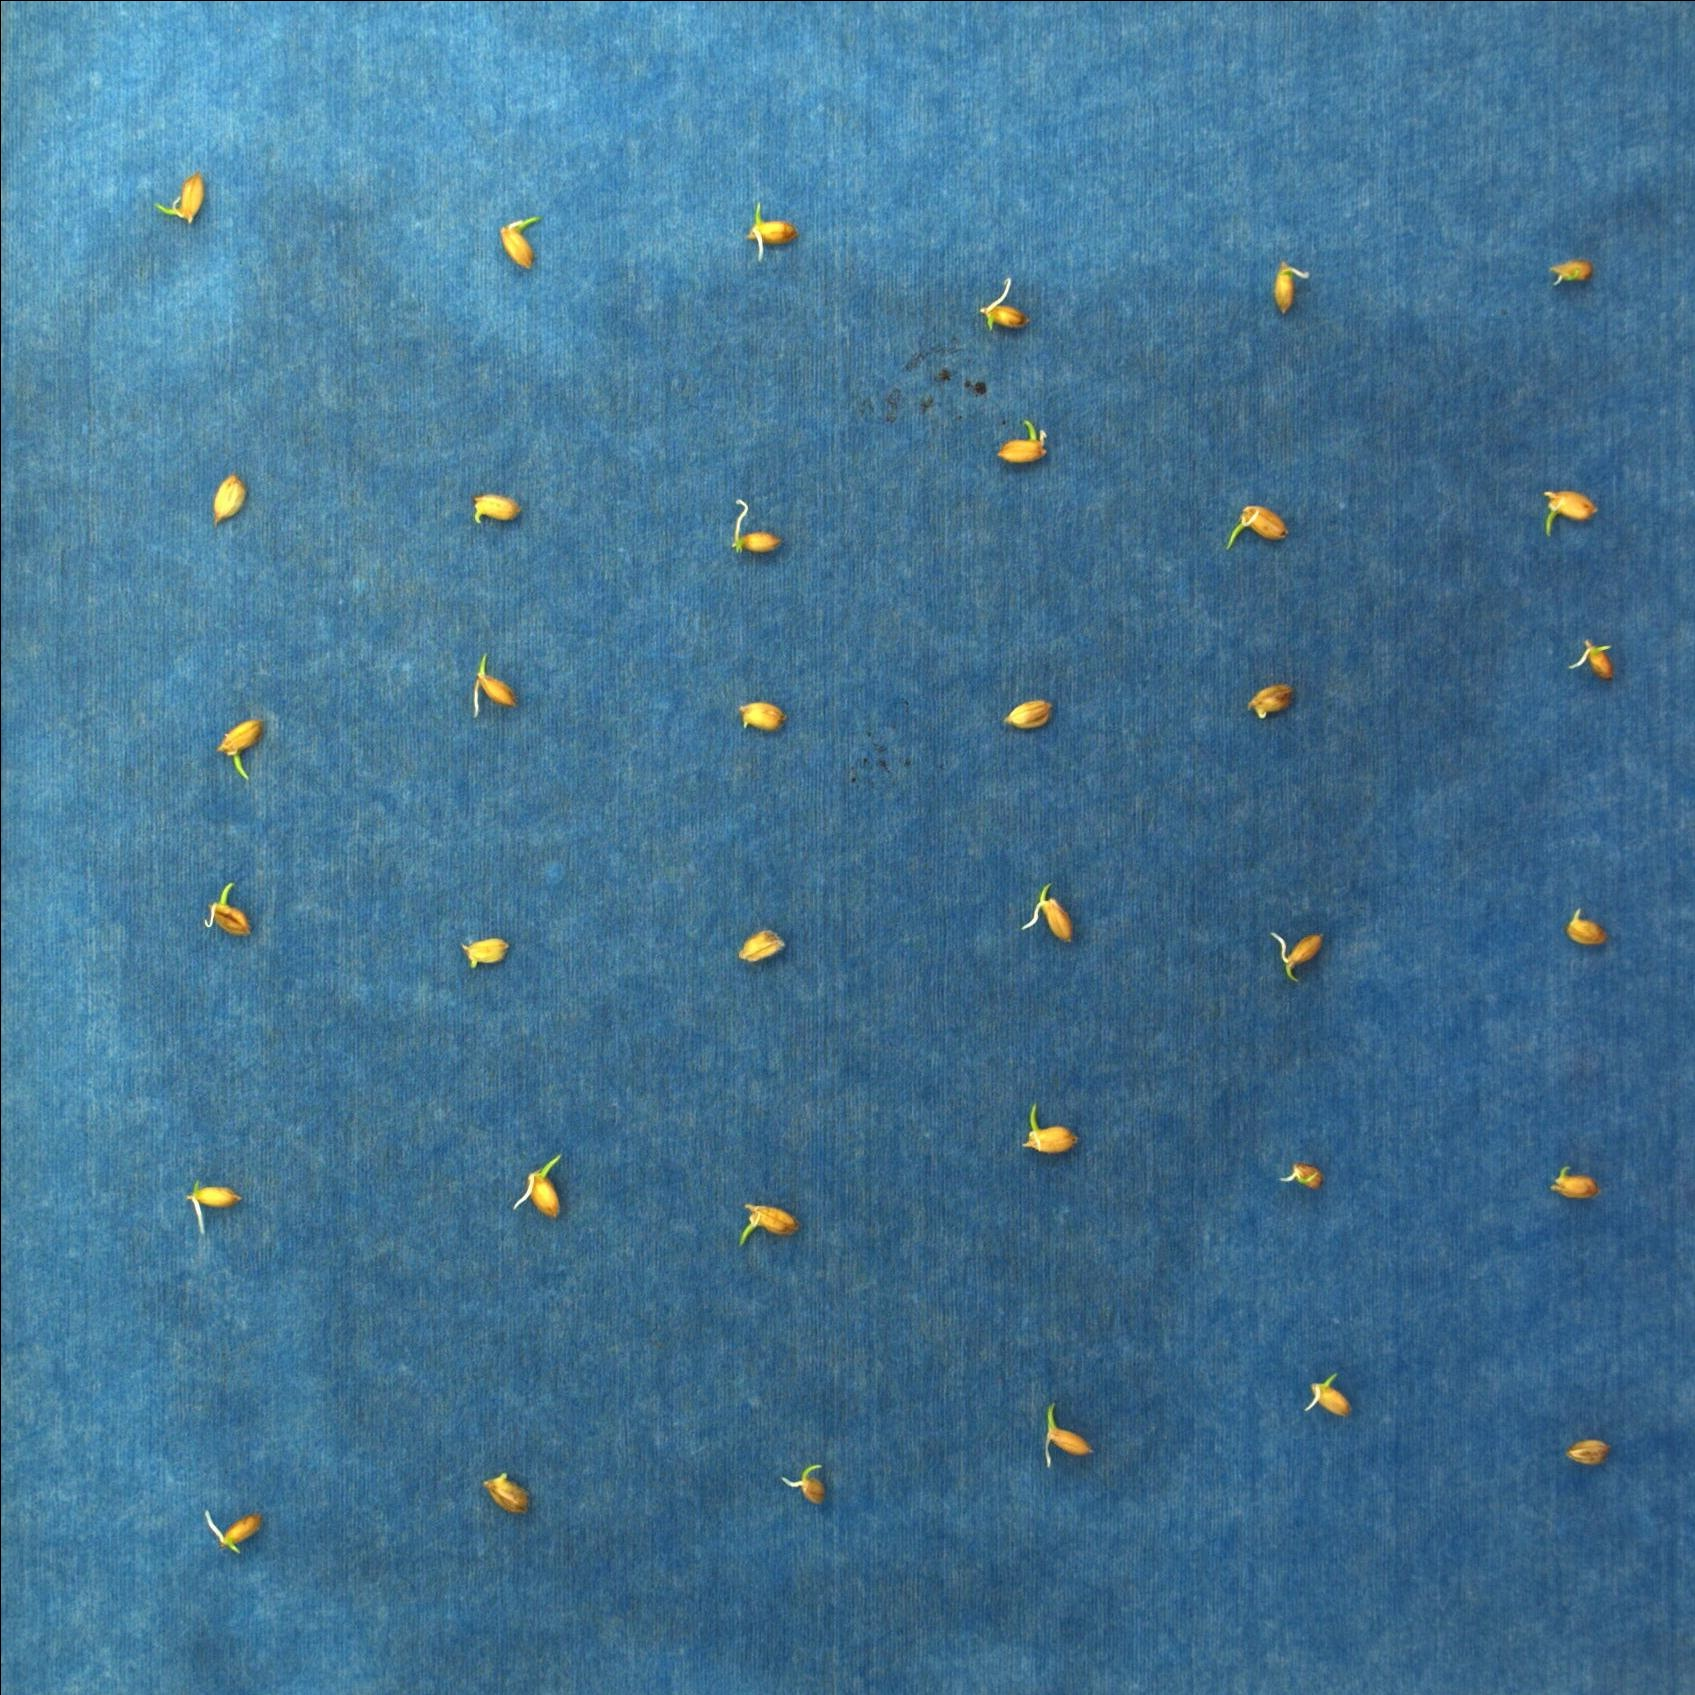not sprout: (1263, 906, 1329, 998), (728, 1183, 810, 1253), (1040, 1392, 1101, 1476), (466, 650, 529, 723), (1020, 1090, 1083, 1163), (1222, 484, 1291, 549), (179, 1170, 251, 1232), (972, 279, 1045, 340), (987, 408, 1052, 473), (206, 1503, 272, 1568), (1256, 258, 1319, 321), (492, 206, 545, 279), (155, 166, 206, 236), (740, 192, 792, 258), (1568, 636, 1625, 692), (469, 481, 528, 534), (1563, 905, 1616, 962), (1049, 880, 1093, 948), (459, 930, 522, 976), (480, 1470, 542, 1516), (1245, 674, 1298, 728), (742, 917, 795, 972), (779, 1464, 844, 1507), (1544, 1159, 1607, 1205), (726, 692, 795, 733), (1558, 1431, 1617, 1478), (1304, 1367, 1355, 1420), (200, 477, 255, 525), (1004, 688, 1059, 734), (1277, 1156, 1327, 1198), (1544, 255, 1600, 289)
sprout: (200, 872, 258, 956), (517, 1150, 577, 1226), (722, 497, 787, 563), (1540, 473, 1607, 536), (217, 714, 264, 781)
